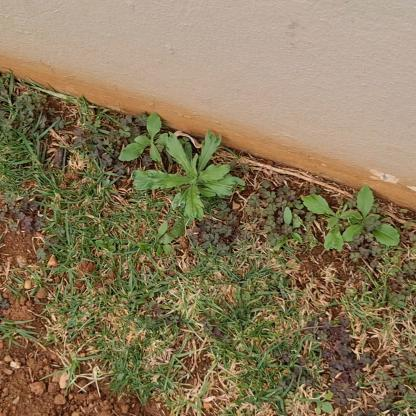Weeds: (130, 131, 246, 220), (299, 190, 363, 254), (343, 184, 401, 250), (119, 115, 179, 166)
